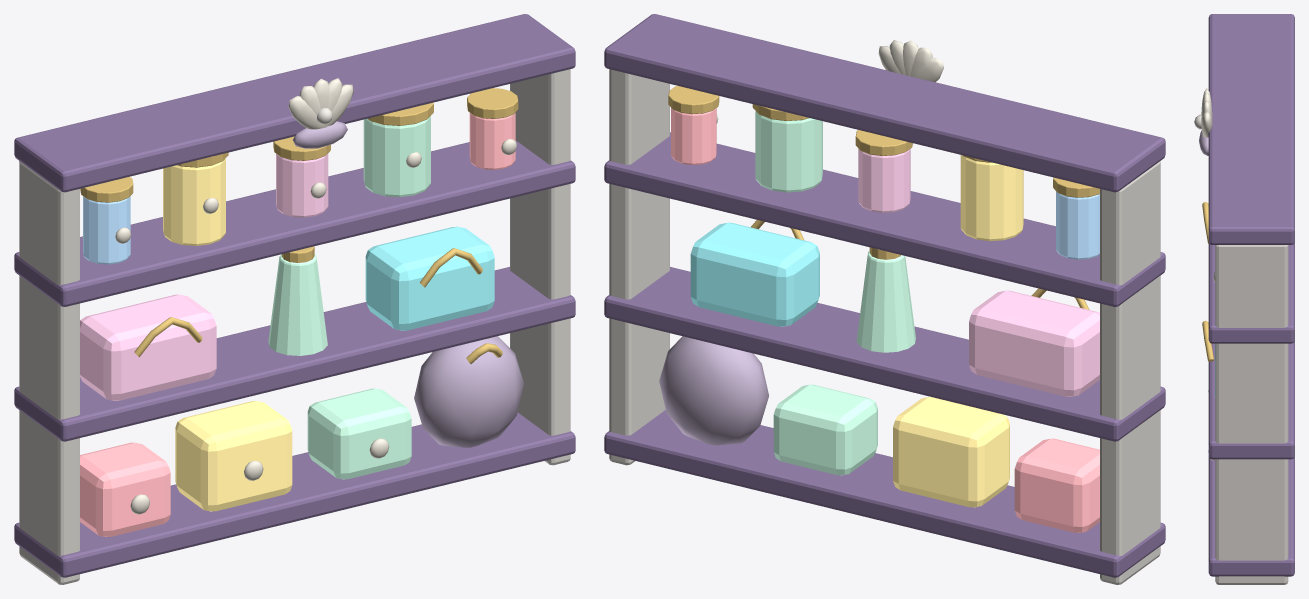
The model's file is pearl_pantry_shelf.glb.
3 views of the same model, side by side, from view 1: azimuth 30°, elevation 25°; view 2: azimuth 150°, elevation 25°; view 3: azimuth 270°, elevation 25° (orthographic). The views are drawn at different scales.
Parts seen in each view (by area): view 1: pearl_pantry_shelf.001; view 2: pearl_pantry_shelf.001; view 3: pearl_pantry_shelf.001.
Boxes of the visible parts, <box> form: pearl_pantry_shelf.001: <box>14,14,575,584</box>; pearl_pantry_shelf.001: <box>604,14,1165,584</box>; pearl_pantry_shelf.001: <box>1194,14,1294,584</box>.
Bounding box in the file's own units: 10.8 × 9.03 × 2.13.
